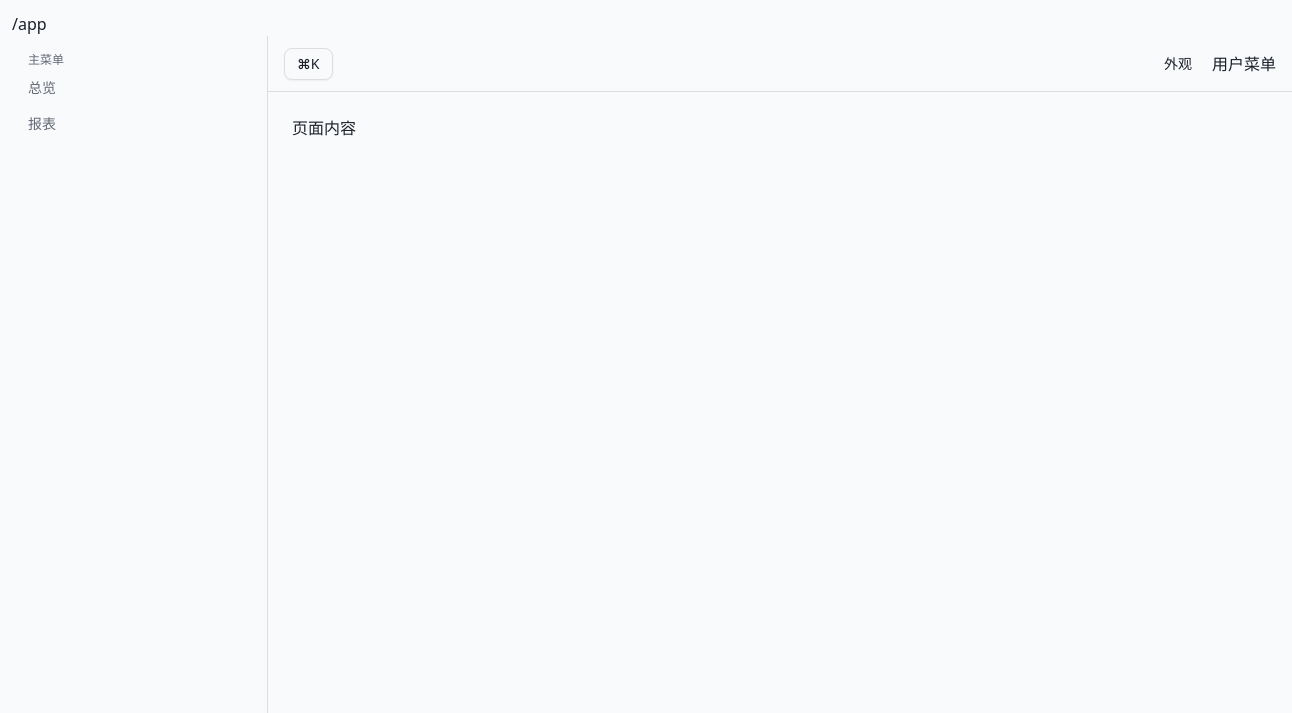
it: AppShell 布局 › 点击侧边栏链接完成客户端导航
Click the link "报表" at (42, 124), box top-left (28, 114), bottom-right (56, 133)
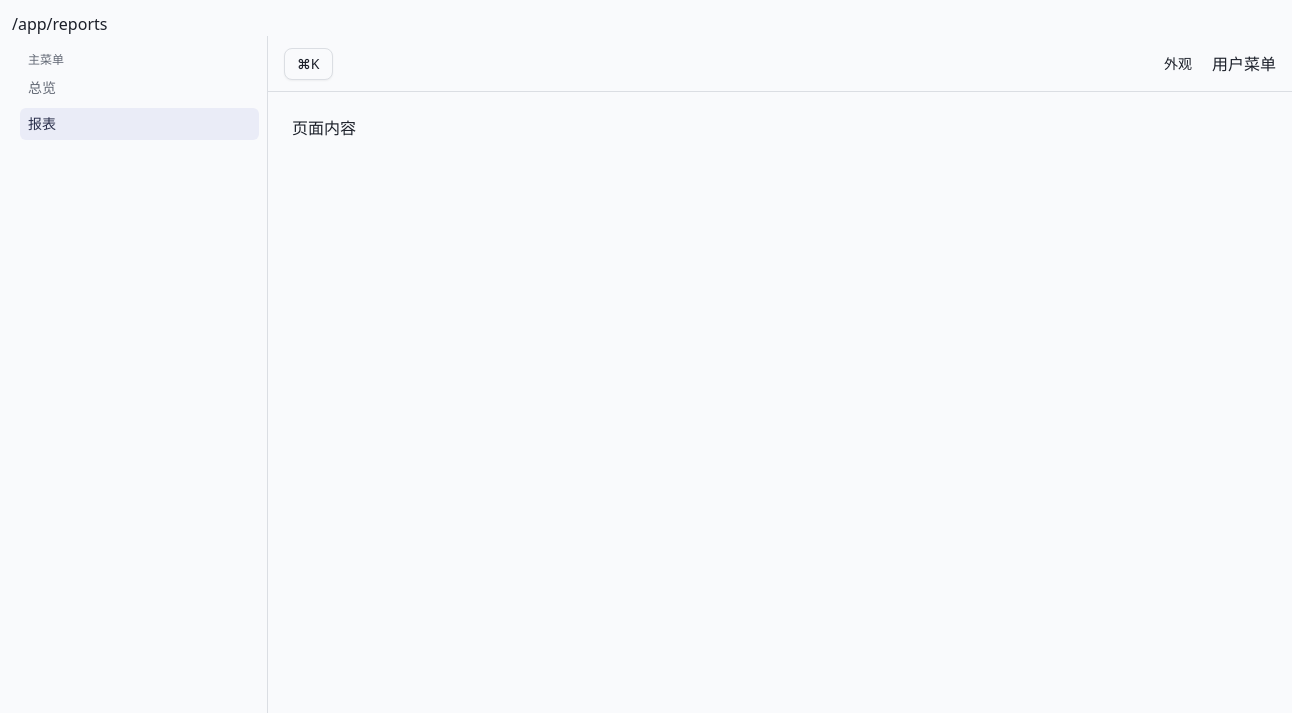
Expected: the text with test id "location-probe" reads "/app/reports", top-left (12, 13), bottom-right (108, 35)
